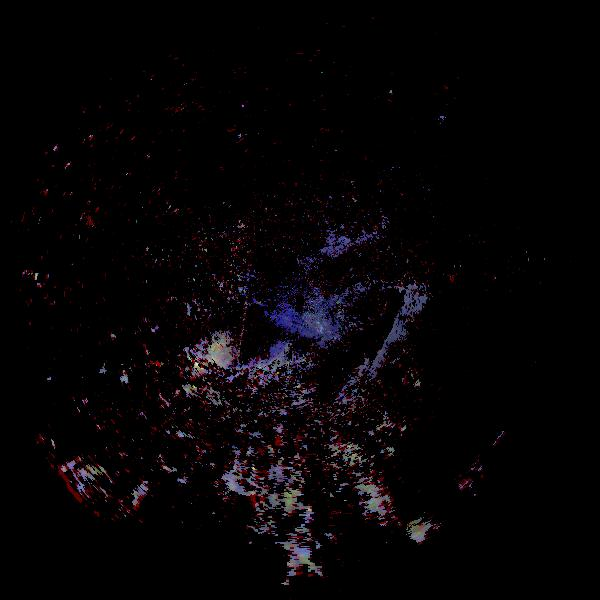roost: (403, 520, 436, 553)
